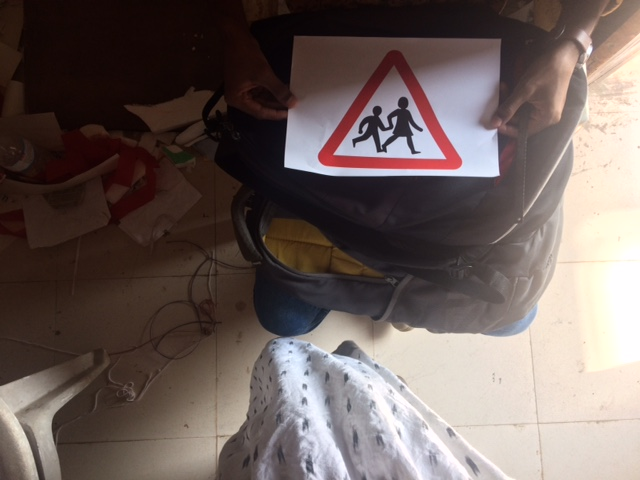sign: (313, 48, 471, 171)
